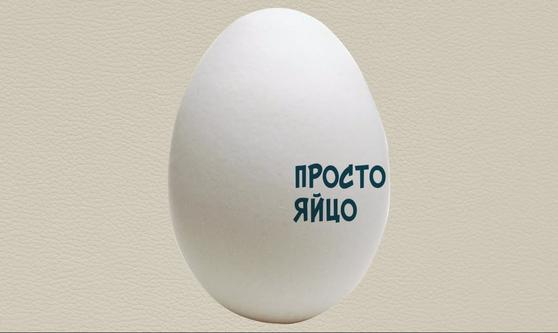egg: (175, 5, 389, 329)
